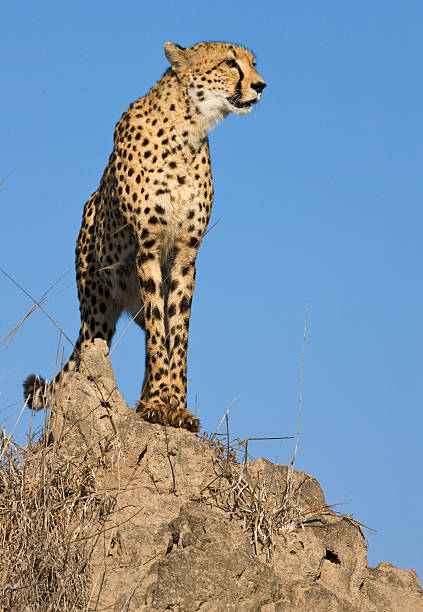cheetah: (160, 33, 272, 120)
